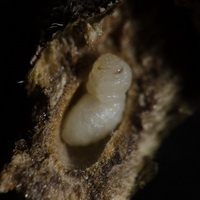insect: (58, 51, 133, 170), (61, 53, 131, 145)
